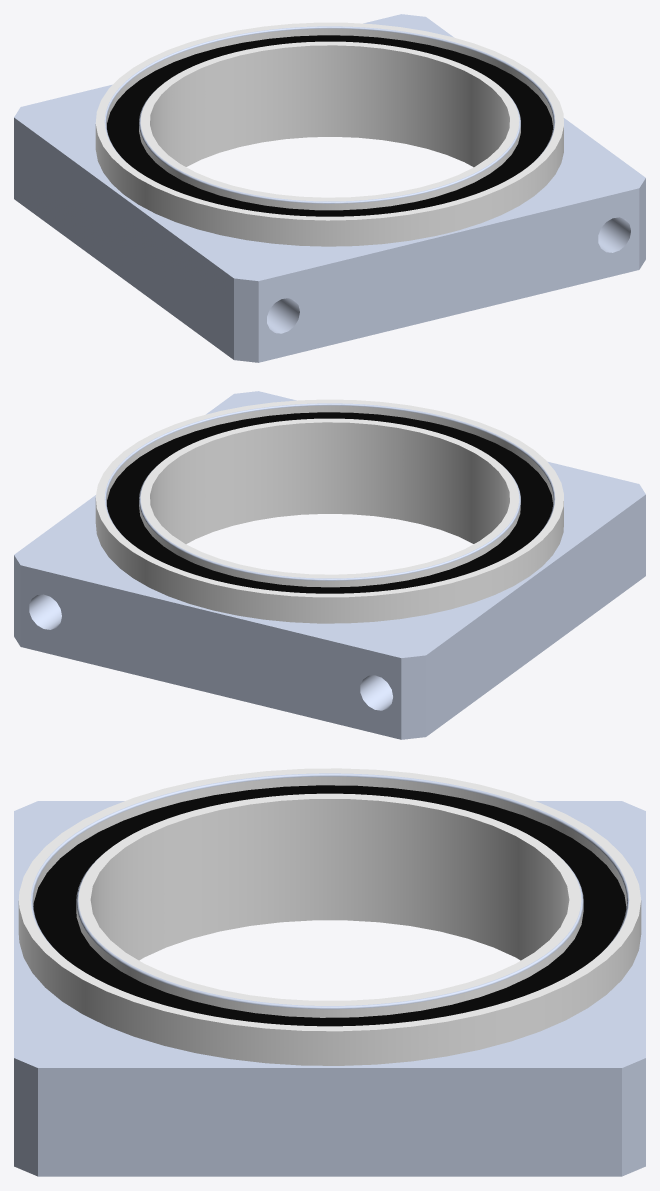
The model's file is ROB-12282.obj.
3 renders of one model, top to bottom at view 1: azimuth 30°, elevation 25°; view 2: azimuth 150°, elevation 25°; view 3: azimuth 270°, elevation 25°, orthographic. The views are drawn at different scales.
Visible parts, largest first — view 1: mesh 1 RO, mesh 2 Boss-Extrude2, mesh 3 Boss-Extrude4; view 2: mesh 1 RO, mesh 2 Boss-Extrude2, mesh 3 Boss-Extrude4; view 3: mesh 2 Boss-Extrude2, mesh 1 RO, mesh 3 Boss-Extrude4.
Boxes of the visible parts, x1,y1,x2,y2 form: mesh 1 RO: (14,14,645,362); mesh 2 Boss-Extrude2: (95,22,563,246); mesh 3 Boss-Extrude4: (107,35,552,216); mesh 1 RO: (14,391,645,739); mesh 2 Boss-Extrude2: (95,399,563,623); mesh 3 Boss-Extrude4: (107,412,552,593); mesh 2 Boss-Extrude2: (18,768,641,1065); mesh 1 RO: (14,773,645,1176); mesh 3 Boss-Extrude4: (33,785,626,1026).
Size of the model in its own units: 0.0335 by 0.00838 by 0.0335.
